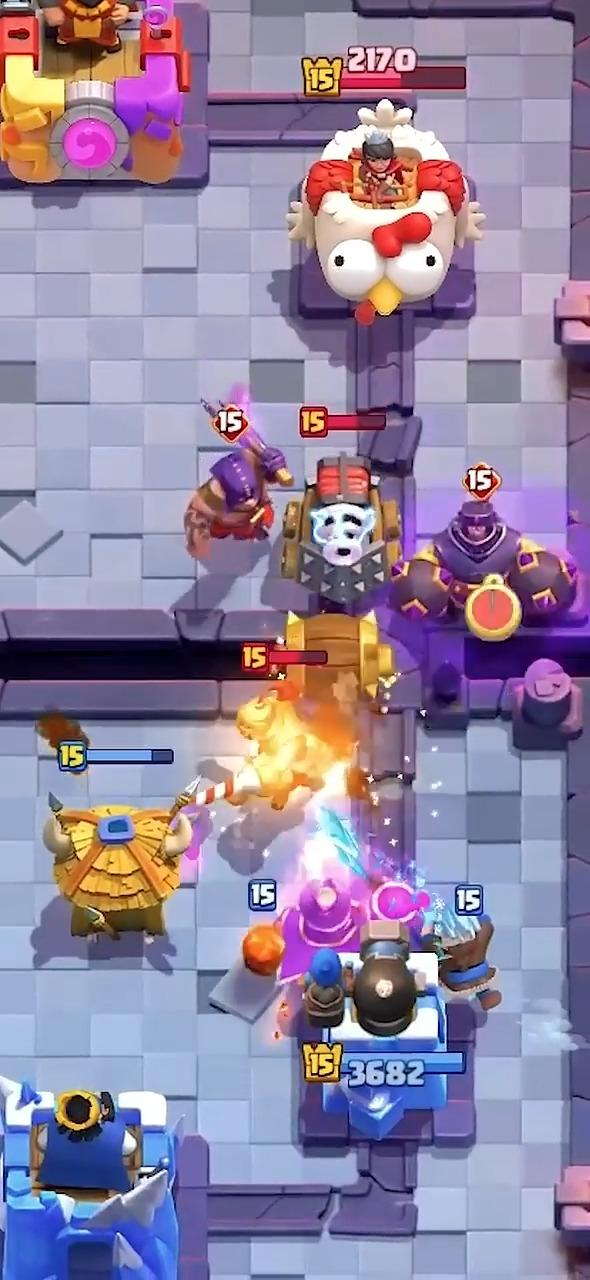executioner: (185, 426, 292, 558)
fire spirit: (242, 923, 284, 974)
furnace: (280, 877, 429, 980)
goblin hut: (42, 797, 191, 938)
ice wizard: (426, 907, 501, 1011)
mega knight: (390, 499, 577, 638)
prince: (194, 682, 340, 809)
sparky: (283, 454, 398, 611)
